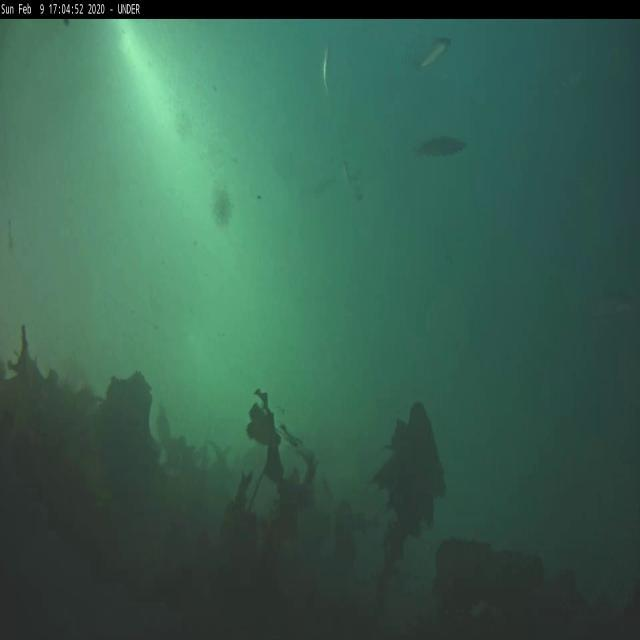fish: (416, 134, 466, 159), (340, 150, 362, 199), (418, 40, 450, 72), (319, 40, 331, 88)
